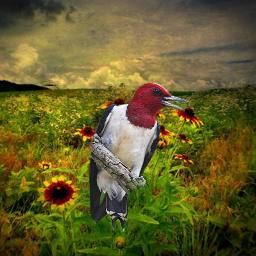Woodpecker: (85, 83, 192, 232)
